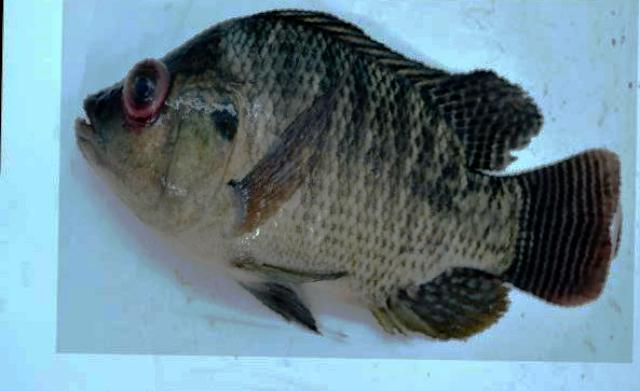Streptococcus: (76, 10, 621, 340)
